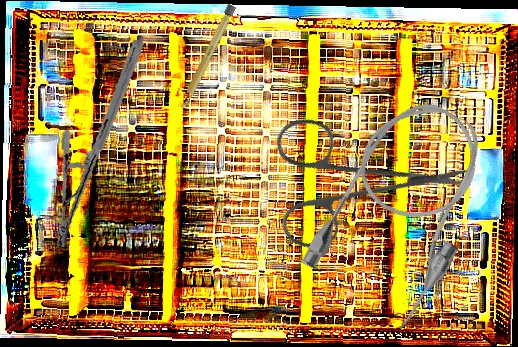Cannula: (295, 83, 513, 336)
Iris Scissors: (229, 56, 478, 306)
Needle Holder: (28, 38, 171, 249)
Scalpel Handle: (178, 3, 237, 110)
